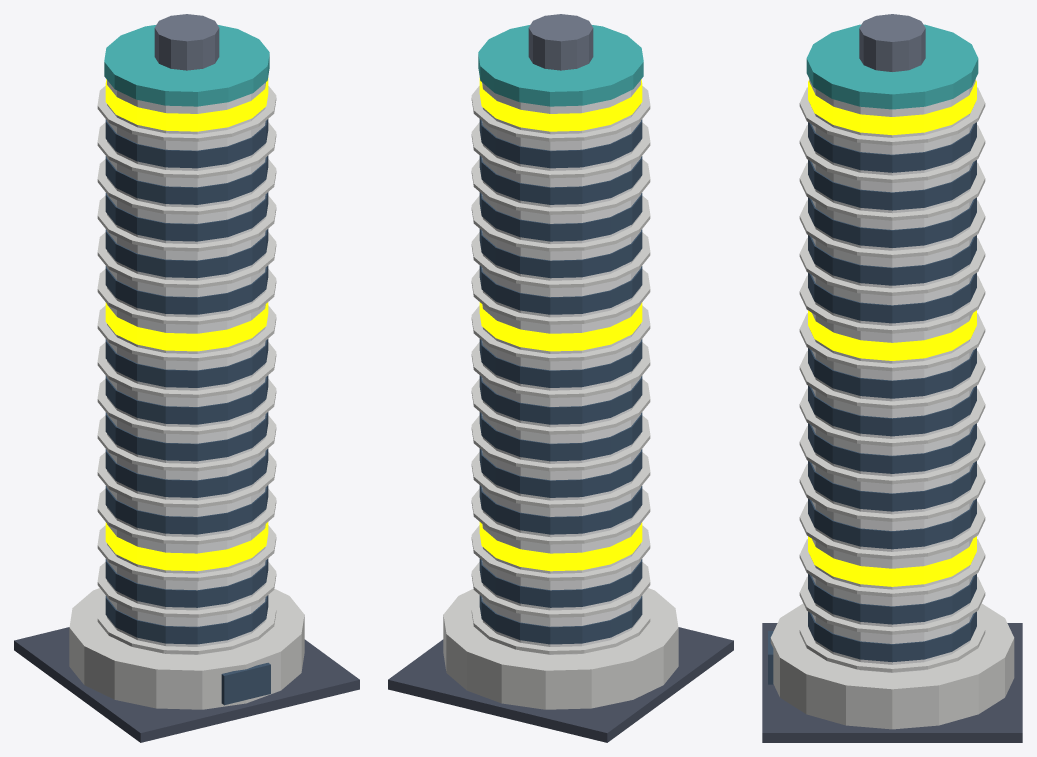
Rendered from tower_round.glb.
3 views of the same model, side by side, from view 1: azimuth 30°, elevation 25°; view 2: azimuth 150°, elevation 25°; view 3: azimuth 270°, elevation 25° (orthographic). The views are drawn at different scales.
Visible parts, largest first — view 1: tower_round_body; view 2: tower_round_body; view 3: tower_round_body.
Boxes of the visible parts, left/top/right/bottom form: tower_round_body: left=14, top=14, right=359, bottom=742; tower_round_body: left=388, top=14, right=733, bottom=742; tower_round_body: left=762, top=14, right=1022, bottom=742.
Bounding box in the file's own units: 0.94 × 2.63 × 0.94.
